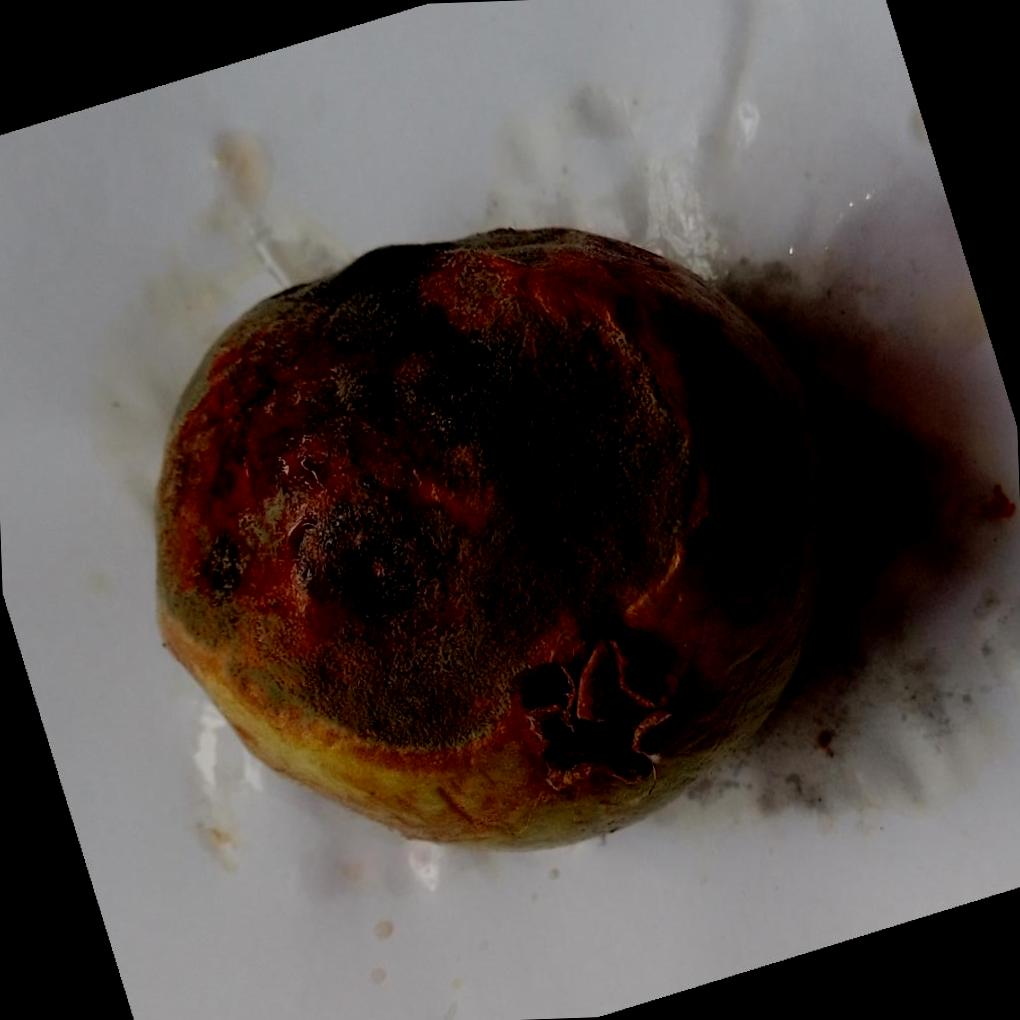FreshOrange: (156, 224, 836, 851)
